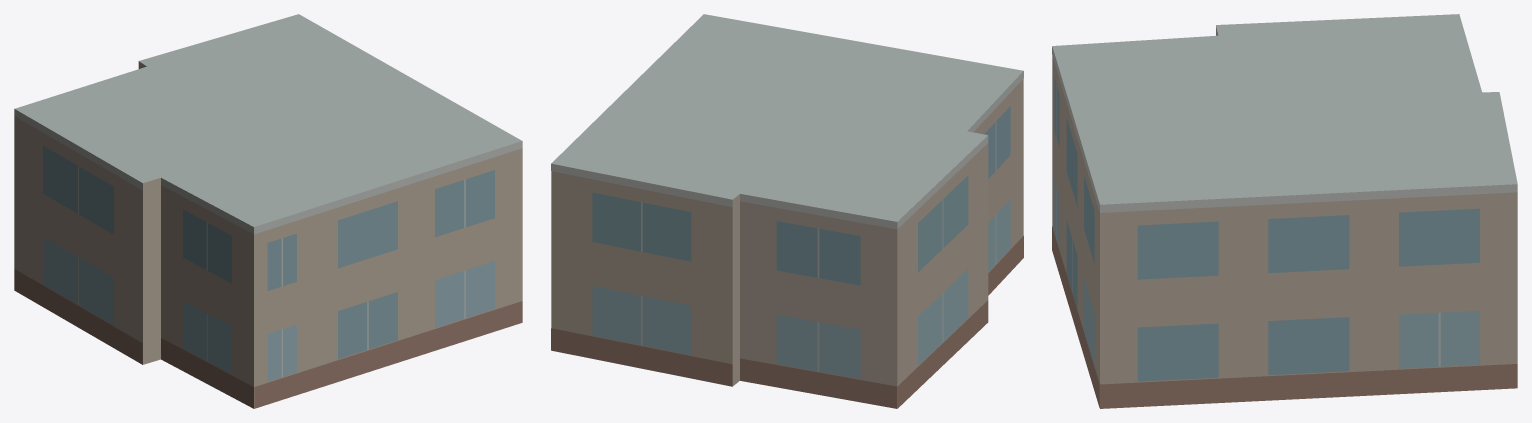
File: survey-upis-33005394.glb
The picture shows the model from 3 angles, left to right: view 1: azimuth 30°, elevation 25°; view 2: azimuth 150°, elevation 25°; view 3: azimuth 270°, elevation 25°; orthographic projection. The views are drawn at different scales.
Visible parts, largest first — view 1: survey-upis-33005394.tmp; view 2: survey-upis-33005394.tmp; view 3: survey-upis-33005394.tmp.
Boxes of the visible parts, box(x1,y1,x2,y2) form: survey-upis-33005394.tmp: box(14, 14, 522, 408); survey-upis-33005394.tmp: box(551, 14, 1023, 408); survey-upis-33005394.tmp: box(1052, 14, 1517, 408).
Bounding box in the file's own units: 12.24 × 6.1 × 12.62.
